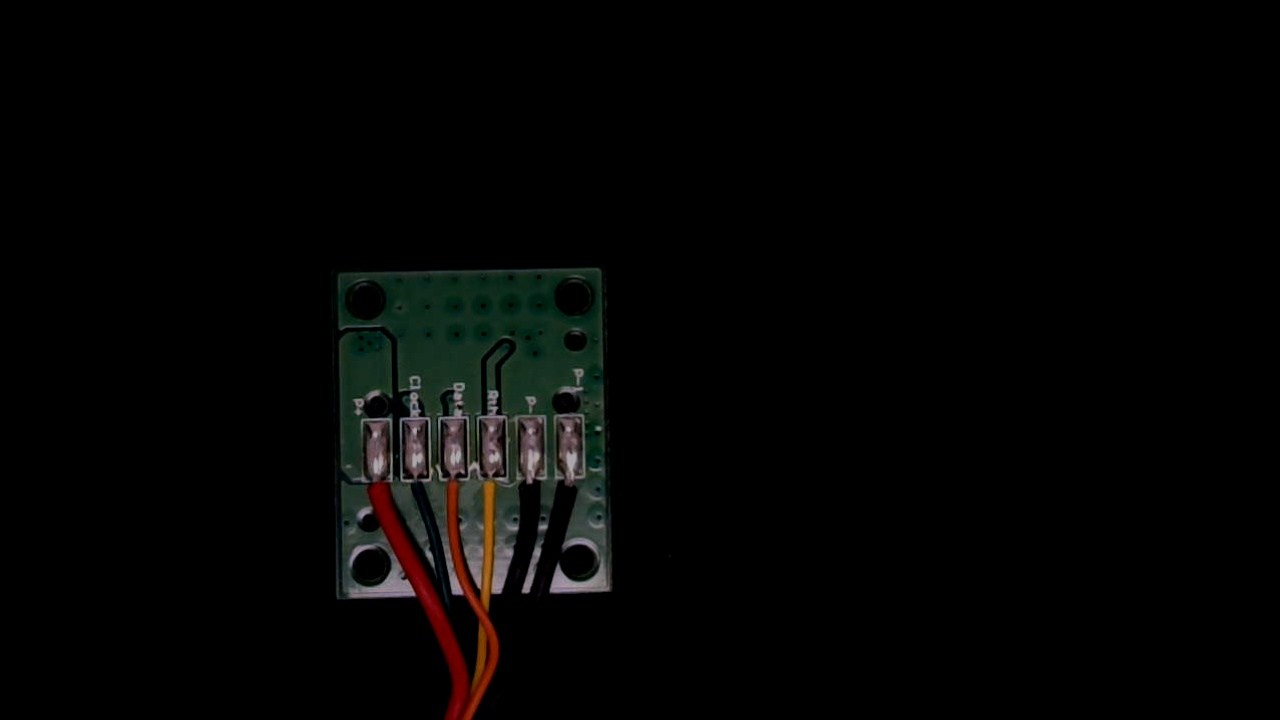Black: (516, 461, 548, 522)
Black1: (555, 458, 588, 526)
Green: (403, 464, 429, 523)
Orange: (439, 462, 469, 525)
Red: (361, 463, 395, 534)
Yellow: (476, 461, 510, 536)
